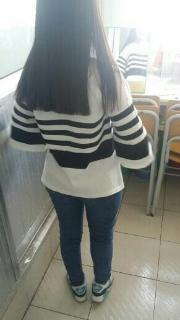long sleeve top: (8, 57, 155, 198)
trousers: (44, 176, 123, 286)
